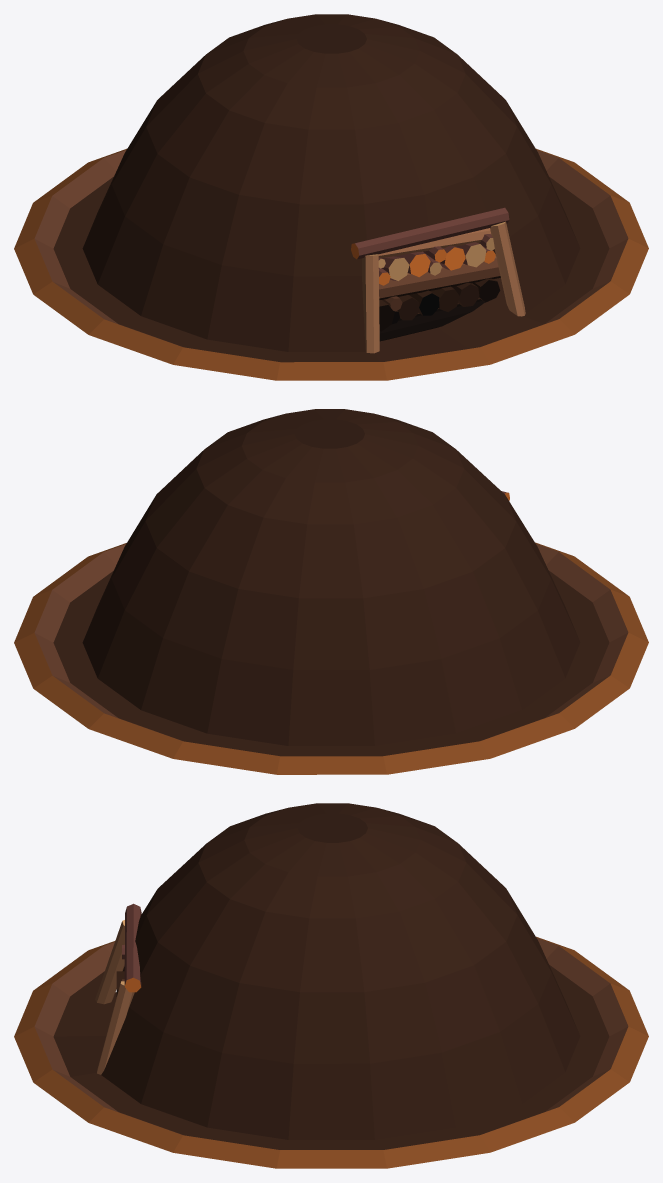
The model's file is charcoal_ maker_lowpoly_3.fbx.
3 renders of one model, top to bottom at view 1: azimuth 30°, elevation 25°; view 2: azimuth 150°, elevation 25°; view 3: azimuth 270°, elevation 25°, orthographic.
Parts seen in each view (by area): view 1: Circle.001; view 2: Circle.001; view 3: Circle.001.
Boxes of the visible parts, <box> form: Circle.001: <box>14,14,648,380</box>; Circle.001: <box>14,409,648,774</box>; Circle.001: <box>14,803,648,1168</box>.
Size of the model in its own units: 333 by 129 by 338.
